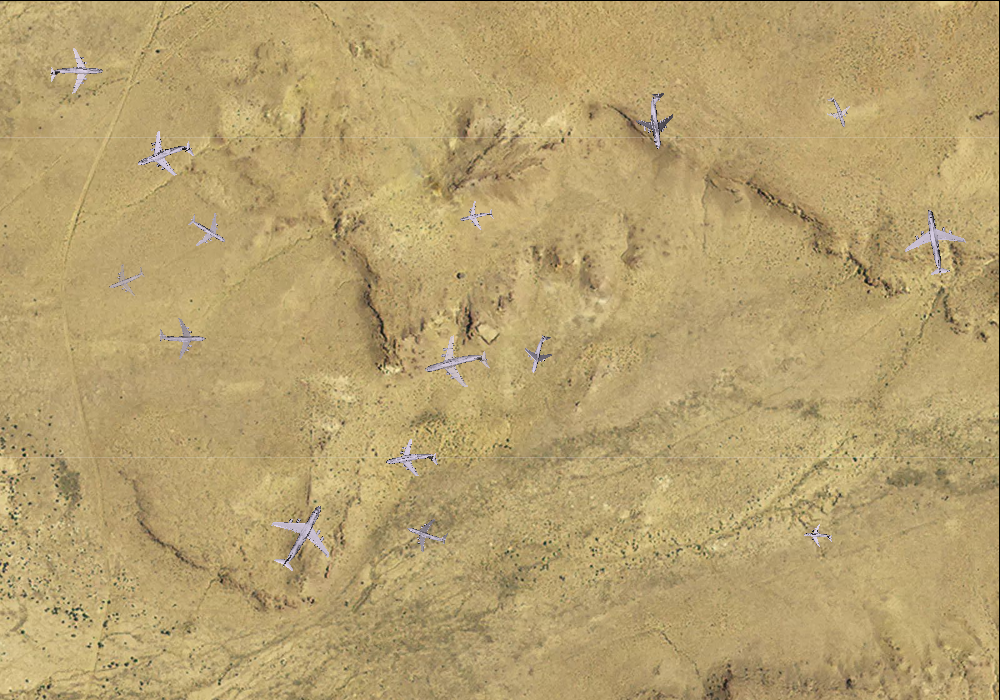plane: (253, 488, 349, 585), (417, 326, 495, 401), (899, 204, 971, 280), (128, 119, 201, 191), (630, 89, 685, 151), (382, 433, 441, 487), (179, 202, 235, 257), (48, 46, 103, 97), (400, 508, 453, 559), (101, 255, 150, 303), (158, 315, 205, 359), (518, 330, 560, 377), (456, 196, 496, 236), (818, 91, 857, 132), (803, 523, 833, 550)
